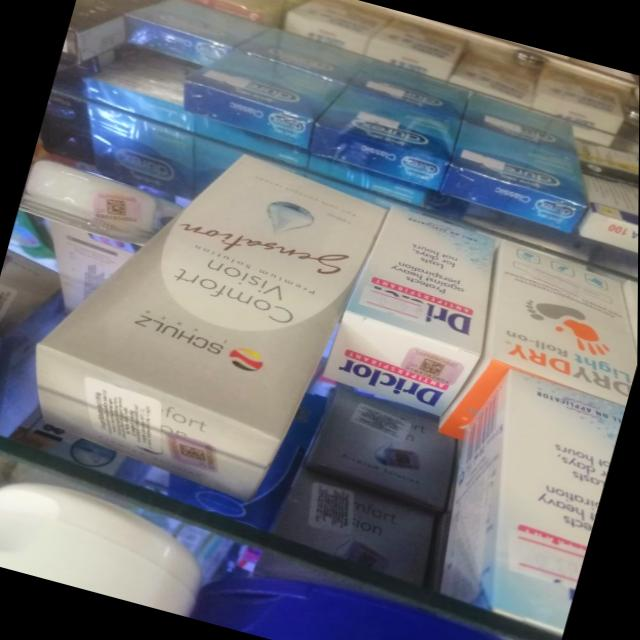datamatrix: (175, 441, 208, 463), (101, 195, 130, 220), (416, 356, 446, 379)
